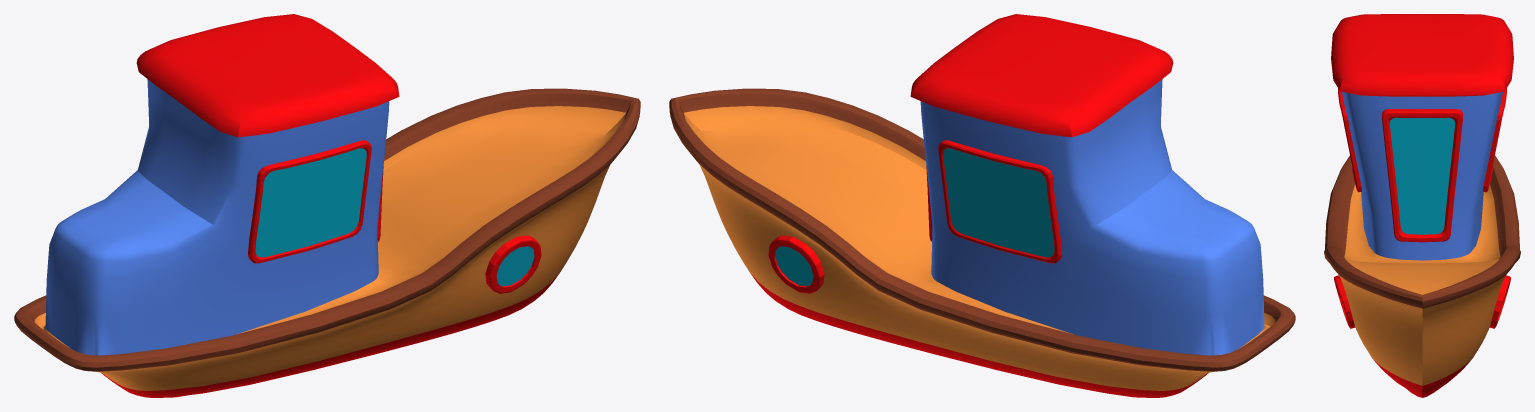
Rendered from ПАРАХОД.fbx.
3 renders of one model, left to right at view 1: azimuth 30°, elevation 25°; view 2: azimuth 150°, elevation 25°; view 3: azimuth 270°, elevation 25°, orthographic. The views are drawn at different scales.
Parts seen in each view (by area): view 1: Plane.001, Plane, Plane.003; view 2: Plane.001, Plane, Plane.003; view 3: Plane.001, Plane.002, Plane, Plane.003.
Boxes of the visible parts, x1,y1,x2,y2 form: Plane.001: (14,14,640,397); Plane: (248,140,371,263); Plane.003: (485,235,541,293); Plane.001: (669,14,1295,397); Plane: (938,140,1061,263); Plane.003: (768,235,824,293); Plane.001: (1324,14,1520,397); Plane.002: (1382,109,1462,242); Plane: (1338,88,1506,192); Plane.003: (1334,275,1510,328).
Bounding box in the file's own units: 925 × 444 × 319.
Materials: 4 (4 with a texture image).
